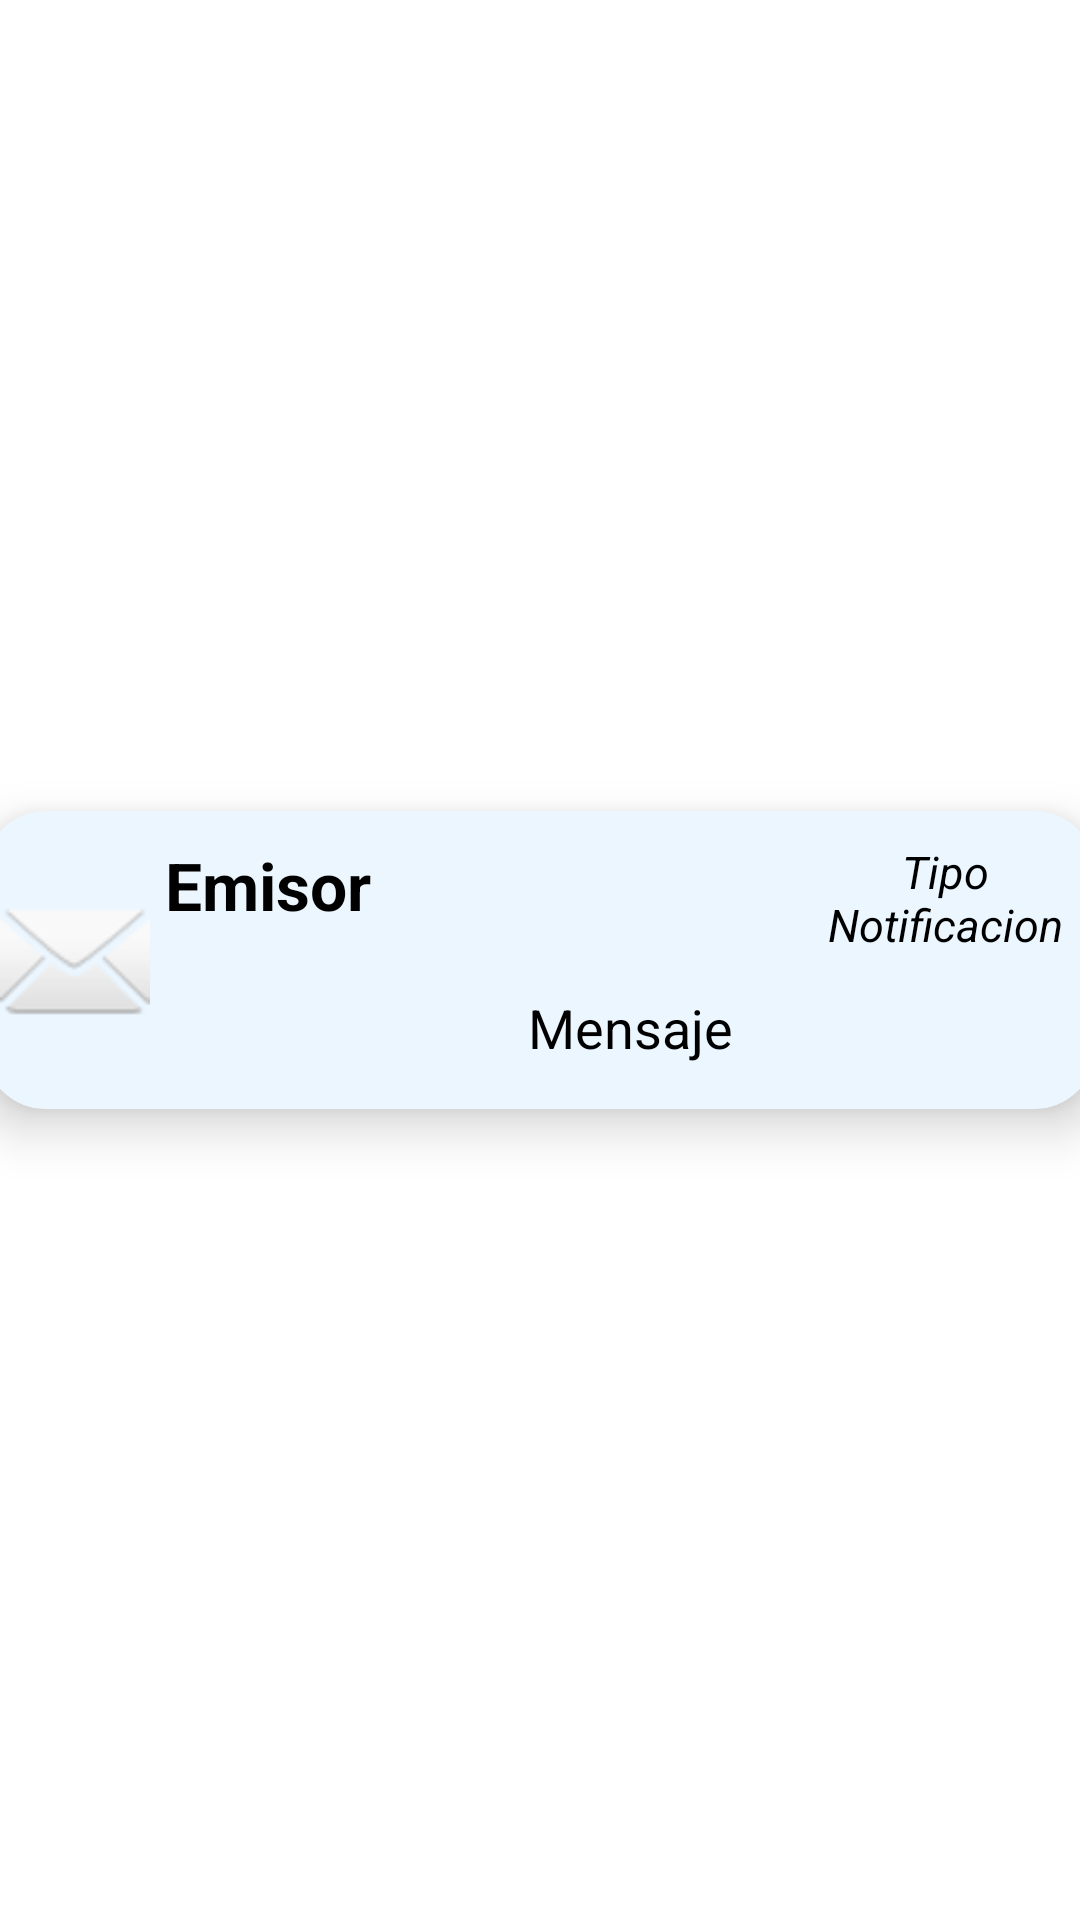

Where to tap for icons on this 1080×1920 app screen, as point (x, y):
email: point (75, 962)
